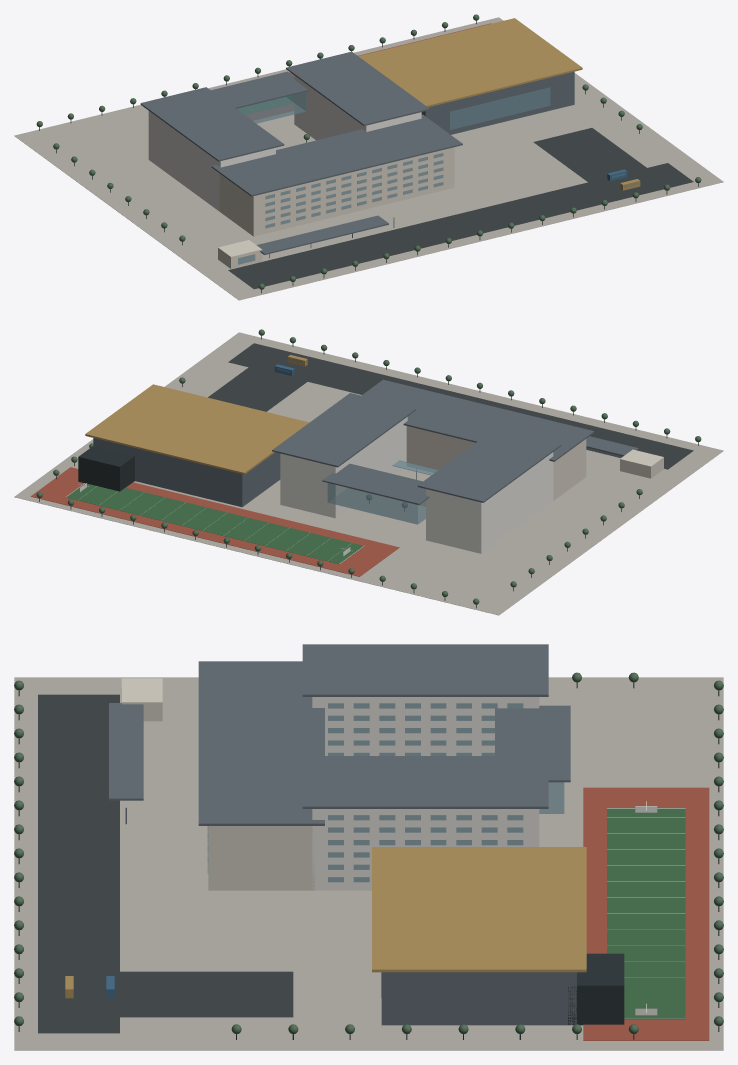
3 renders of one model, top to bottom at view 1: azimuth 30°, elevation 25°; view 2: azimuth 150°, elevation 25°; view 3: azimuth 270°, elevation 25°, orthographic. The views are drawn at different scales.
Parts seen in each view (by area): view 1: AmpliWorld Academy Campus: concrete, AmpliWorld Academy Campus: steel, AmpliWorld Academy Campus: road, AmpliWorld Academy Campus: gold, AmpliWorld Academy Campus: limestone, AmpliWorld Academy Campus: white, AmpliWorld Academy Campus: glass, AmpliWorld Academy Campus: green, AmpliWorld Academy Campus: track; view 2: AmpliWorld Academy Campus: concrete, AmpliWorld Academy Campus: steel, AmpliWorld Academy Campus: white, AmpliWorld Academy Campus: gold, AmpliWorld Academy Campus: road, AmpliWorld Academy Campus: turf, AmpliWorld Academy Campus: track, AmpliWorld Academy Campus: limestone, AmpliWorld Academy Campus: glass, AmpliWorld Academy Campus: dark, AmpliWorld Academy Campus: green; view 3: AmpliWorld Academy Campus: concrete, AmpliWorld Academy Campus: steel, AmpliWorld Academy Campus: road, AmpliWorld Academy Campus: gold, AmpliWorld Academy Campus: white, AmpliWorld Academy Campus: turf, AmpliWorld Academy Campus: track, AmpliWorld Academy Campus: limestone, AmpliWorld Academy Campus: glass, AmpliWorld Academy Campus: dark, AmpliWorld Academy Campus: green, AmpliWorld Academy Campus: mark.
Part boxes in pixels (x1,y1,x2,y2): AmpliWorld Academy Campus: concrete: [14, 17, 723, 300]; AmpliWorld Academy Campus: steel: [140, 51, 574, 258]; AmpliWorld Academy Campus: road: [228, 128, 693, 289]; AmpliWorld Academy Campus: gold: [358, 18, 640, 190]; AmpliWorld Academy Campus: limestone: [218, 147, 454, 268]; AmpliWorld Academy Campus: white: [148, 75, 421, 211]; AmpliWorld Academy Campus: glass: [236, 87, 638, 264]; AmpliWorld Academy Campus: green: [36, 14, 701, 289]; AmpliWorld Academy Campus: track: [245, 23, 491, 120]; AmpliWorld Academy Campus: concrete: [14, 332, 723, 615]; AmpliWorld Academy Campus: steel: [93, 379, 638, 507]; AmpliWorld Academy Campus: white: [66, 417, 553, 563]; AmpliWorld Academy Campus: gold: [85, 355, 309, 474]; AmpliWorld Academy Campus: road: [208, 343, 693, 469]; AmpliWorld Academy Campus: turf: [66, 483, 363, 564]; AmpliWorld Academy Campus: track: [31, 467, 399, 576]; AmpliWorld Academy Campus: limestone: [406, 426, 663, 500]; AmpliWorld Academy Campus: glass: [276, 358, 438, 524]; AmpliWorld Academy Campus: dark: [39, 335, 698, 608]; AmpliWorld Academy Campus: green: [36, 329, 701, 604]; AmpliWorld Academy Campus: concrete: [14, 677, 723, 1050]; AmpliWorld Academy Campus: steel: [109, 644, 576, 1025]; AmpliWorld Academy Campus: road: [38, 694, 293, 1033]; AmpliWorld Academy Campus: gold: [65, 847, 586, 998]; AmpliWorld Academy Campus: white: [312, 697, 685, 1018]; AmpliWorld Academy Campus: turf: [607, 808, 685, 1019]; AmpliWorld Academy Campus: track: [583, 787, 709, 1040]; AmpliWorld Academy Campus: limestone: [121, 678, 315, 890]; AmpliWorld Academy Campus: glass: [121, 688, 564, 998]; AmpliWorld Academy Campus: dark: [18, 682, 719, 1039]; AmpliWorld Academy Campus: green: [14, 672, 723, 1034]; AmpliWorld Academy Campus: mark: [607, 817, 685, 977].
Size of the model in its own units: 280 by 30.96 by 225.
